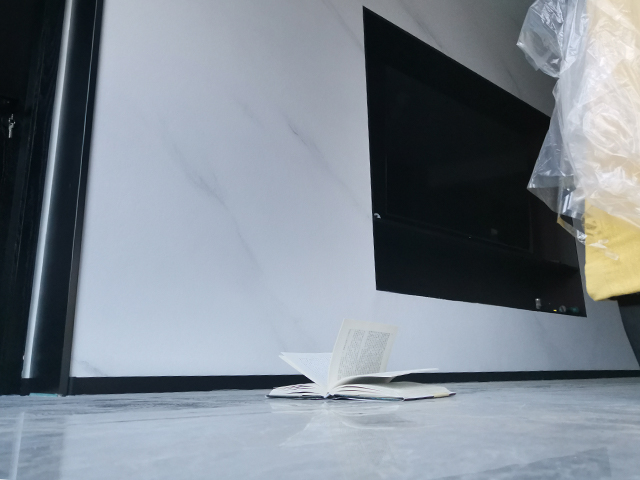book: (266, 314, 458, 402)
